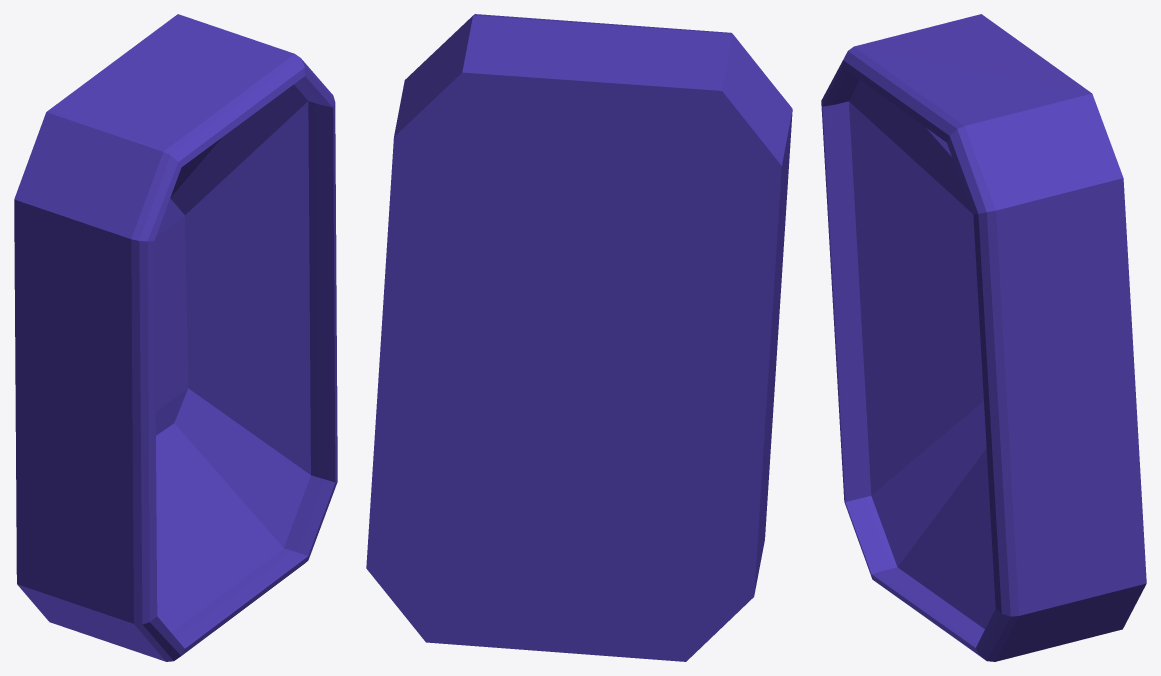
File: TR2_8shapes_Emerald_Classic_Metal.001 3.glb
3 views of the same model, side by side, from view 1: azimuth 30°, elevation 25°; view 2: azimuth 150°, elevation 25°; view 3: azimuth 270°, elevation 25° (orthographic). The views are drawn at different scales.
Parts seen in each view (by area): view 1: TR2_8shapes_Emerald_Classic_Metal.001; view 2: TR2_8shapes_Emerald_Classic_Metal.001; view 3: TR2_8shapes_Emerald_Classic_Metal.001.
Part boxes in pixels (left/top/right/bottom): TR2_8shapes_Emerald_Classic_Metal.001: left=14, top=14, right=337, bottom=661; TR2_8shapes_Emerald_Classic_Metal.001: left=366, top=14, right=792, bottom=661; TR2_8shapes_Emerald_Classic_Metal.001: left=821, top=14, right=1146, bottom=661.
Bounding box in the file's own units: 0.4574 × 0.6837 × 0.3694.
